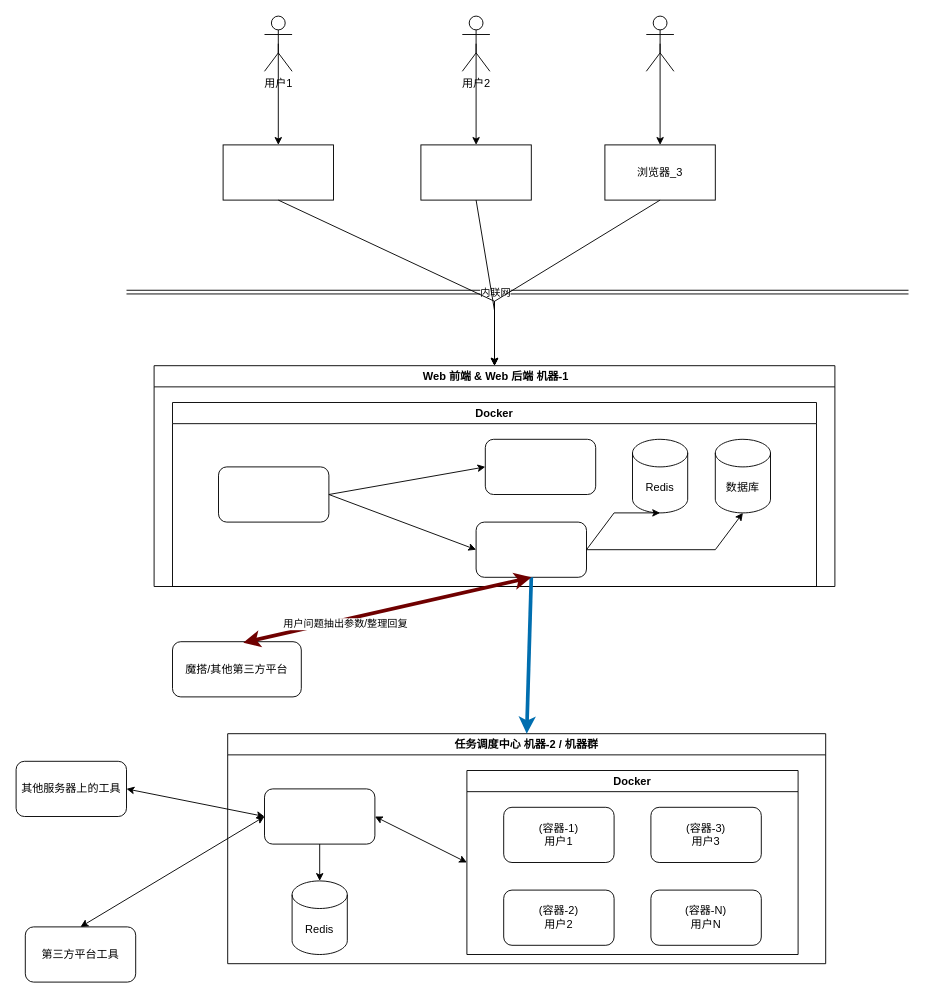
Image size: 925x998. Some labels were removed from this diagram. The shapes that lost their labels are listed below. From the top down, each one's centre as x and y in pixels, then its label:
the point at 659,43: 用户3
the point at 278,172: 浏览器_1
the point at 475,172: 浏览器_2
the point at 540,466: （容器-2） NodeJs Vue3 Web 前端
the point at 273,494: （容器-1） NGINX 均衡负载
the point at 530,549: Python Flask Web 后端
the point at 319,816: Python Flask 任务调配 管理Docker
